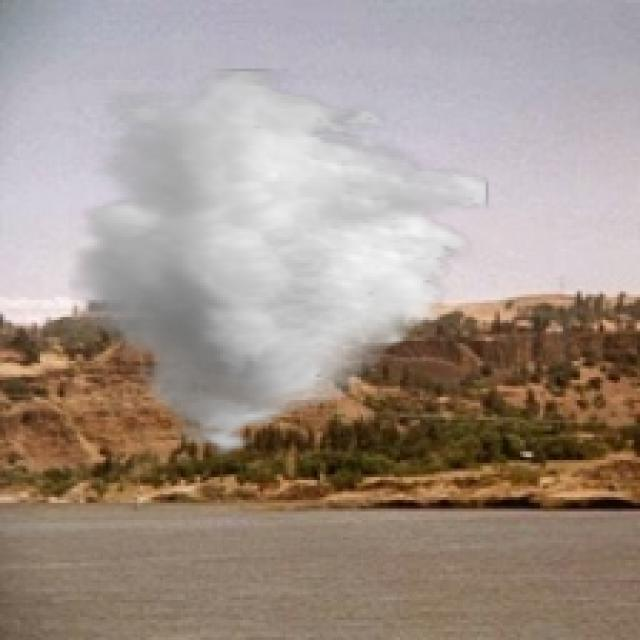Smoke: (69, 68, 488, 463)
